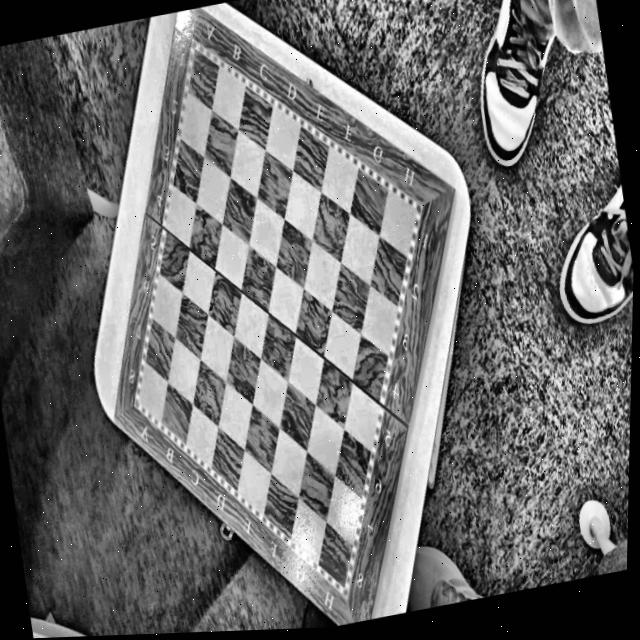chessboard: (115, 10, 441, 622)
white-queen: (552, 467, 629, 581)
